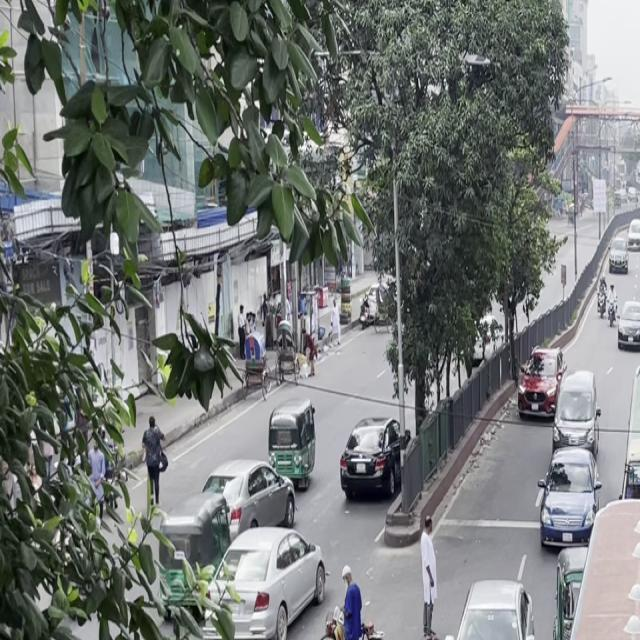bicycle: (312, 594, 398, 640)
bus: (534, 507, 640, 640), (622, 353, 640, 625)
car: (204, 517, 330, 640), (197, 456, 300, 534), (339, 401, 411, 512), (537, 442, 601, 555), (448, 572, 539, 640), (550, 364, 600, 460), (514, 340, 566, 426), (614, 293, 640, 354), (608, 236, 630, 276), (624, 216, 640, 250)
rickshaw: (261, 394, 322, 486)
